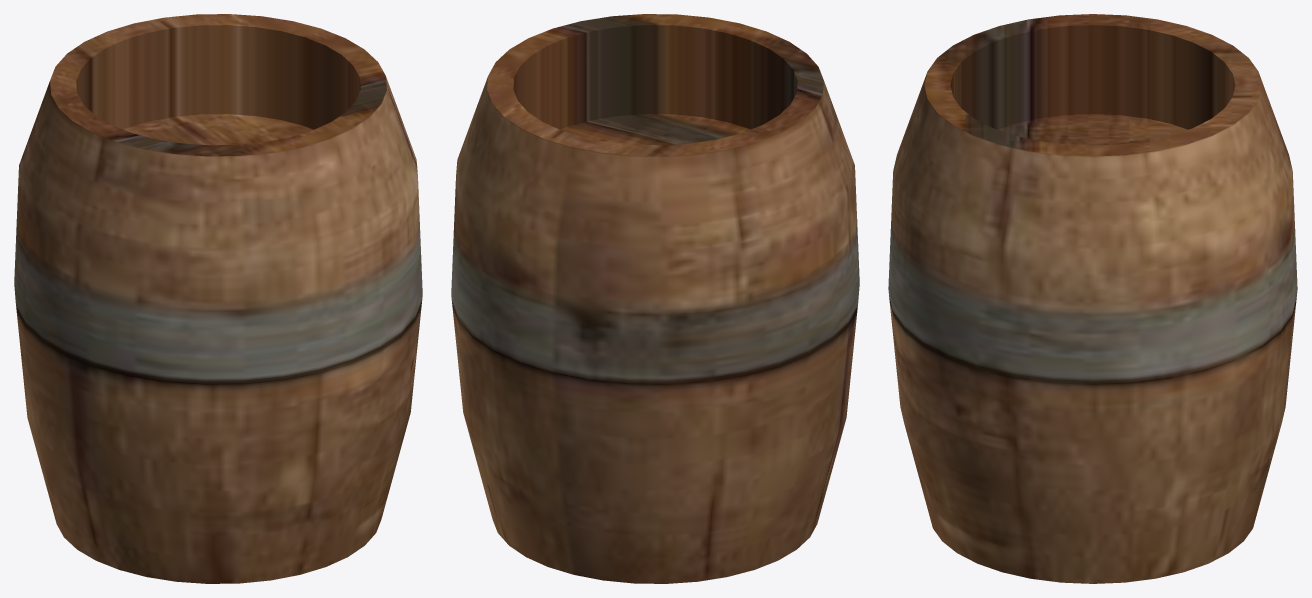
File: barril.fbx
The picture shows the model from 3 angles, left to right: view 1: azimuth 30°, elevation 25°; view 2: azimuth 150°, elevation 25°; view 3: azimuth 270°, elevation 25°; orthographic projection.
Visible parts, largest first — view 1: Cylinder; view 2: Cylinder; view 3: Cylinder.
Boxes of the visible parts, x1,y1,x2,y2 form: Cylinder: (14, 14, 422, 583); Cylinder: (451, 14, 859, 583); Cylinder: (888, 14, 1297, 583).
Bounding box in the file's own units: 207 × 240 × 207.
